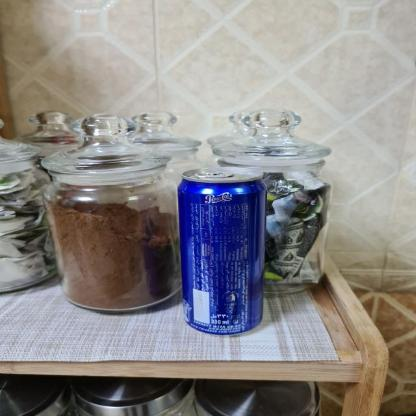Can: (174, 167, 267, 338)
